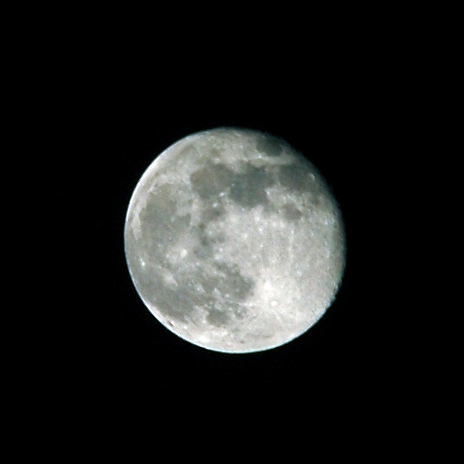crater: (241, 277, 299, 322), (302, 170, 318, 187)
